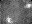person: (6, 16, 14, 22), (26, 2, 32, 8)
